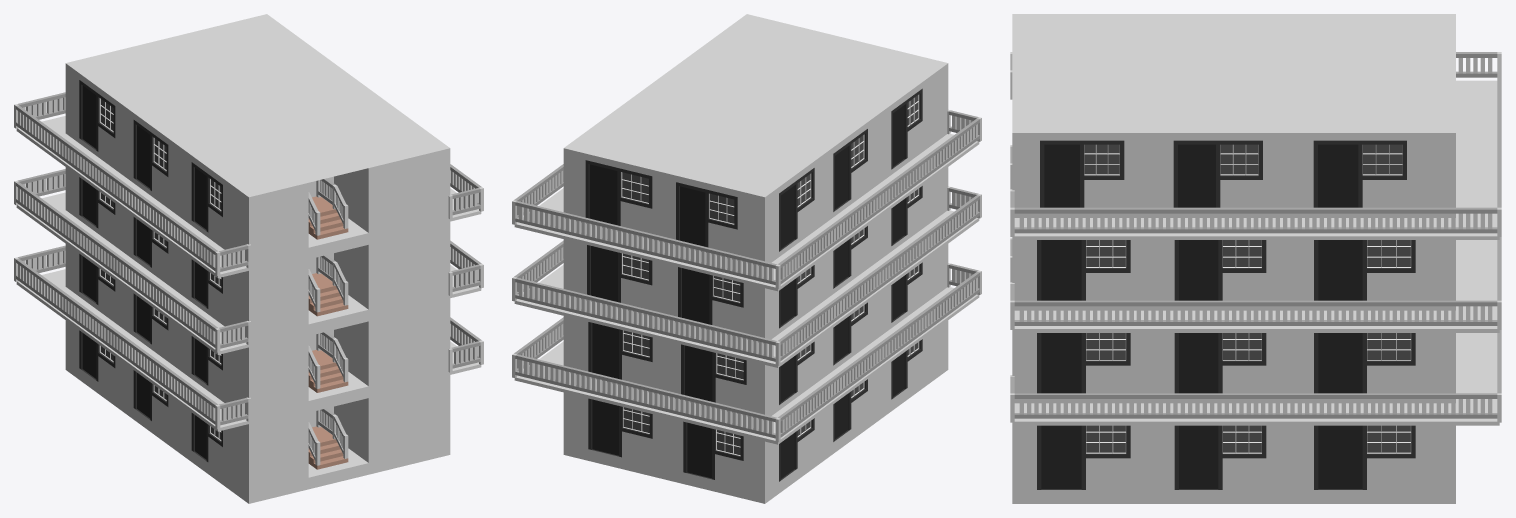
File: Apartment 11.fbx
3 renders of one model, left to right at view 1: azimuth 30°, elevation 25°; view 2: azimuth 150°, elevation 25°; view 3: azimuth 270°, elevation 25°, orthographic. The views are drawn at different scales.
Parts seen in each view (by area): view 1: building_003; view 2: building_003; view 3: building_003.
Part boxes in pixels (x1,y1,x2,y2): building_003: (14,14,483,503); building_003: (512,14,981,503); building_003: (1010,14,1501,503).
Bounding box in the file's own units: 859 × 944 × 1133.
